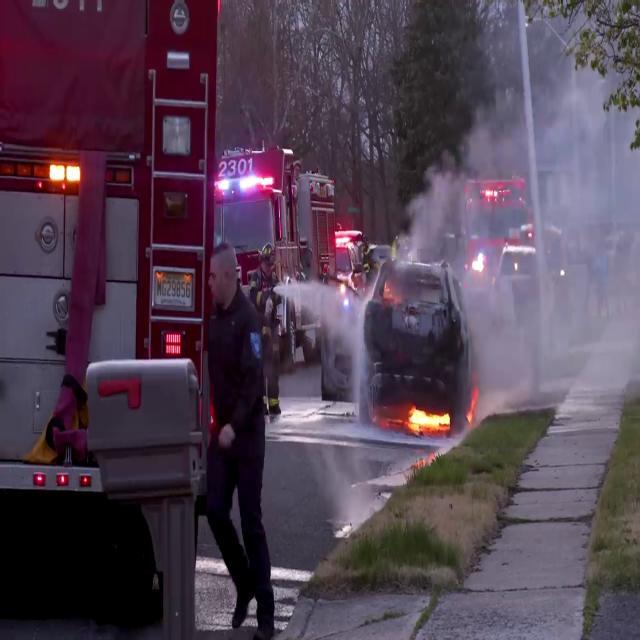Fire: (403, 398, 451, 436)
Smoke: (390, 8, 640, 421)
